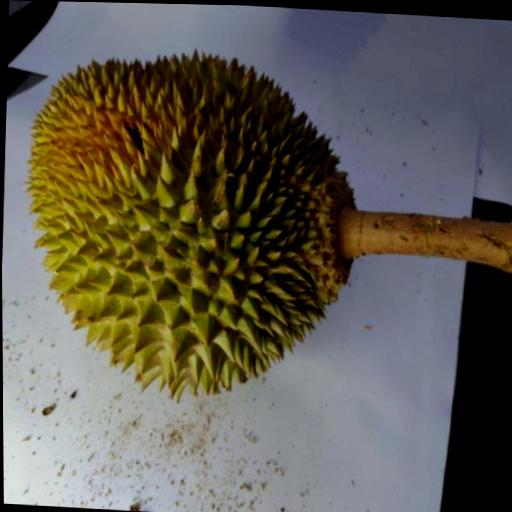rot: (3, 0, 512, 451)
